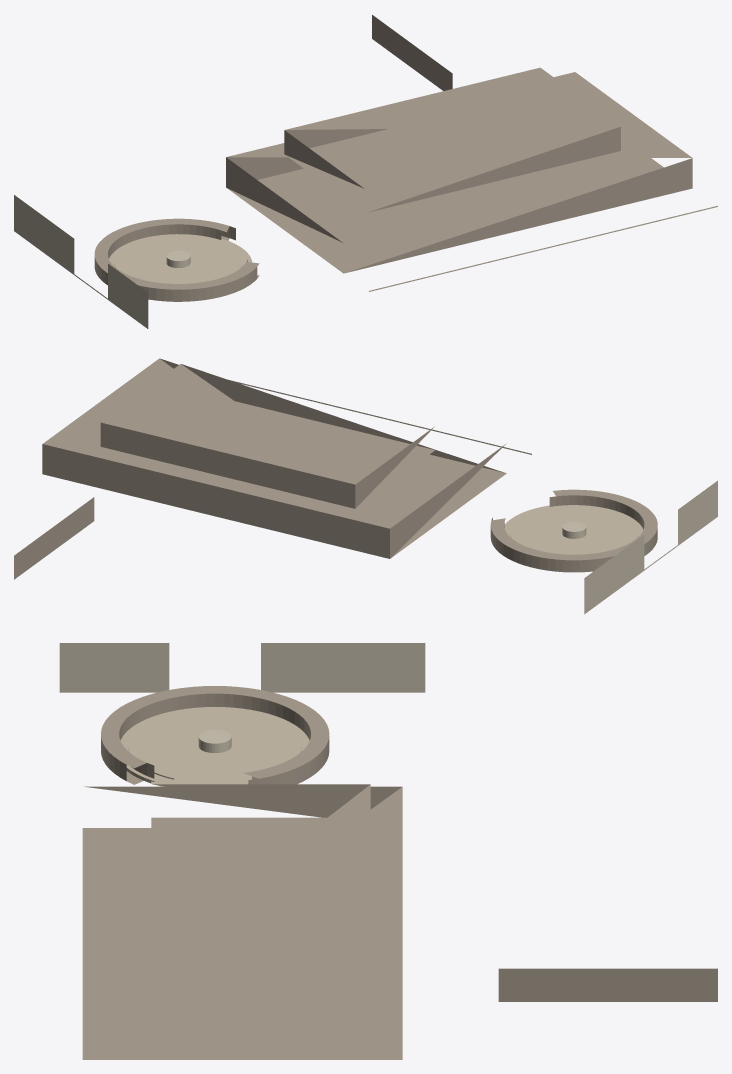
Rendered from chavin_edificio_a_lod1.glb.
The picture shows the model from 3 angles, top to bottom: view 1: azimuth 30°, elevation 25°; view 2: azimuth 150°, elevation 25°; view 3: azimuth 270°, elevation 25°; orthographic projection. The views are drawn at different scales.
Visible parts, largest first — view 1: chavin_edificio_a; view 2: chavin_edificio_a; view 3: chavin_edificio_a.
Part boxes in pixels (box(x1,y1,x2,y2)): chavin_edificio_a: box(14, 15, 717, 328); chavin_edificio_a: box(14, 358, 717, 614); chavin_edificio_a: box(59, 643, 717, 1059).
Size of the model in its own units: 95 by 9 by 77.
